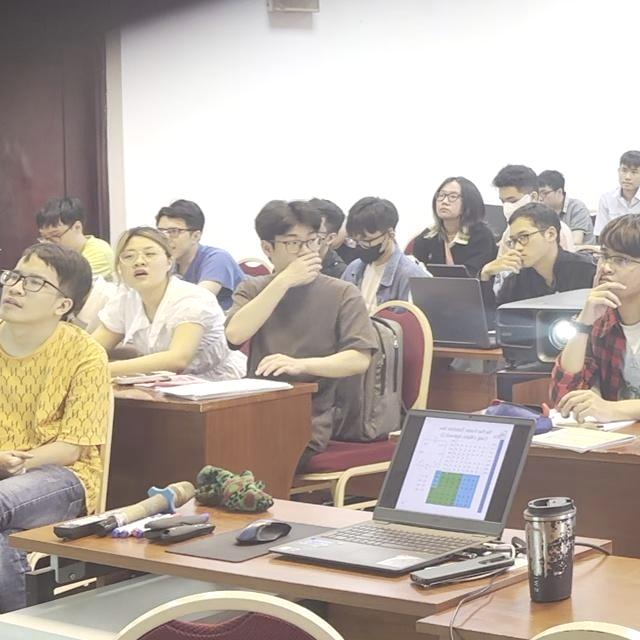Looking away: (274, 235, 316, 274), (39, 226, 69, 253)
Looking forward: (2, 273, 53, 314), (124, 244, 157, 285), (598, 252, 630, 292), (512, 226, 535, 264), (160, 222, 183, 256), (437, 191, 461, 215), (618, 165, 637, 190)
